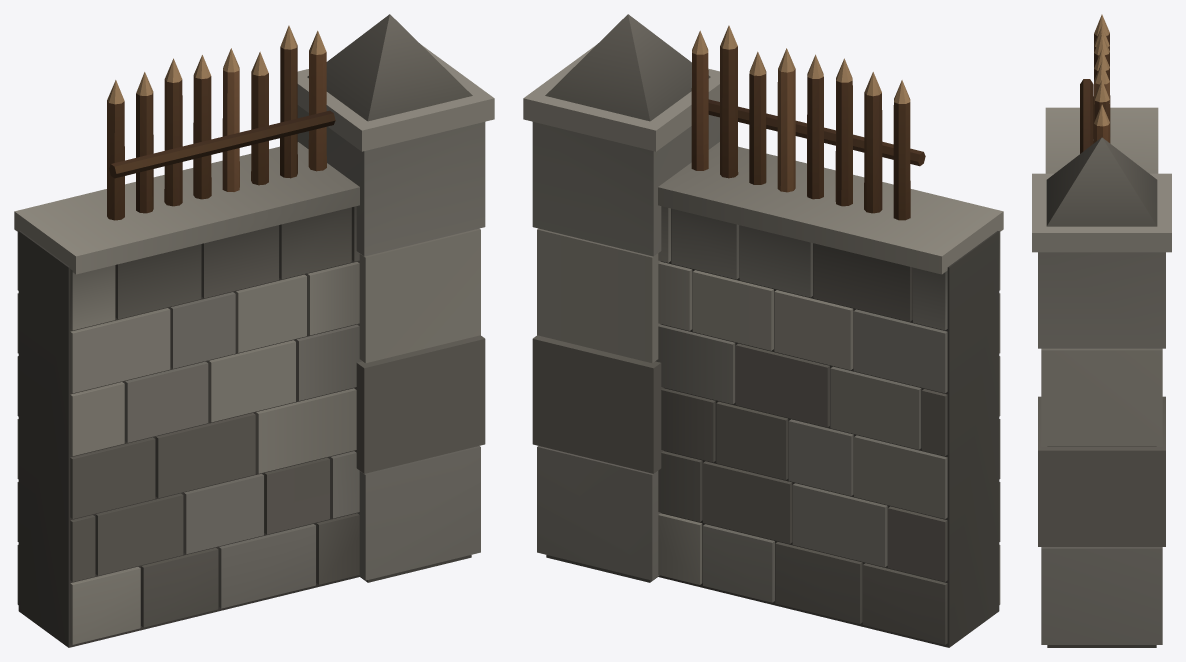
Rendered from fence_stonewall_tall.glb.
3 renders of one model, left to right at view 1: azimuth 30°, elevation 25°; view 2: azimuth 150°, elevation 25°; view 3: azimuth 270°, elevation 25°, orthographic. The views are drawn at different scales.
Visible parts, largest first — view 1: fence_stonewall_tall; view 2: fence_stonewall_tall; view 3: fence_stonewall_tall.
Part boxes in pixels (left/top/right/bottom): fence_stonewall_tall: left=14, top=14, right=494, bottom=647; fence_stonewall_tall: left=523, top=14, right=1003, bottom=647; fence_stonewall_tall: left=1032, top=14, right=1171, bottom=647.
Size of the model in its own units: 2.86 by 3.63 by 0.92.
